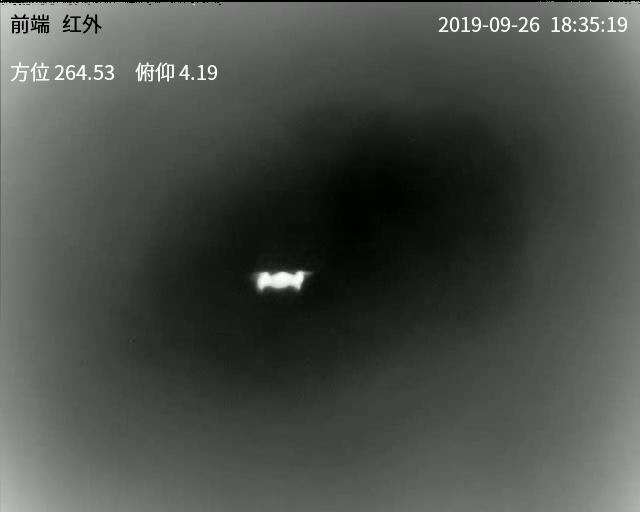DRONE: (256, 269, 306, 292)
